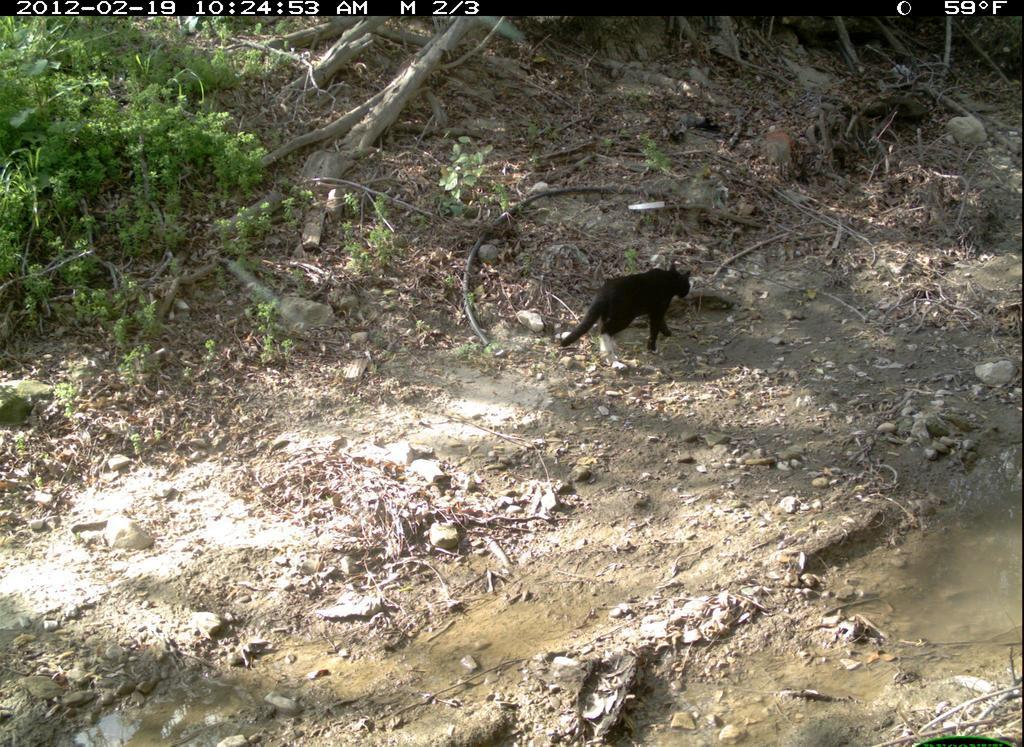cat: (556, 263, 698, 368)
